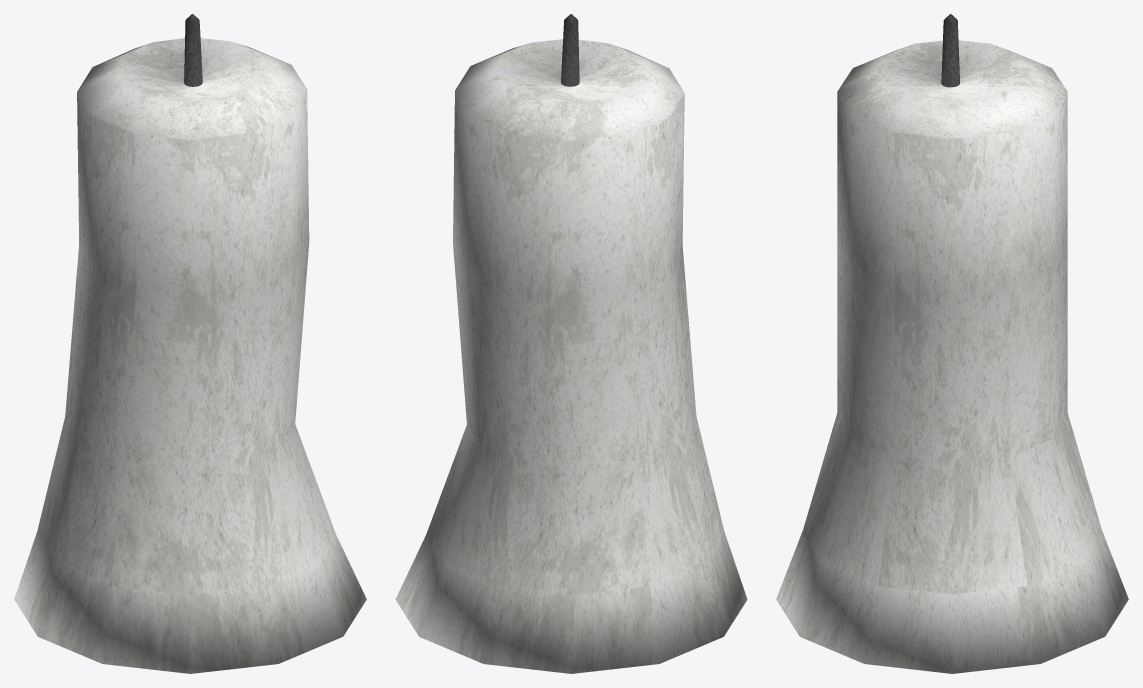
The model's file is candle.fbx.
The picture shows the model from 3 angles, left to right: view 1: azimuth 30°, elevation 25°; view 2: azimuth 150°, elevation 25°; view 3: azimuth 270°, elevation 25°; orthographic projection.
Parts seen in each view (by area): view 1: Cylinder; view 2: Cylinder; view 3: Cylinder.
Part boxes in pixels (bbox=[...]): Cylinder: bbox=[14, 14, 366, 673]; Cylinder: bbox=[395, 14, 747, 673]; Cylinder: bbox=[776, 14, 1128, 673].
Size of the model in its own units: 30.65 by 56.13 by 30.65.
